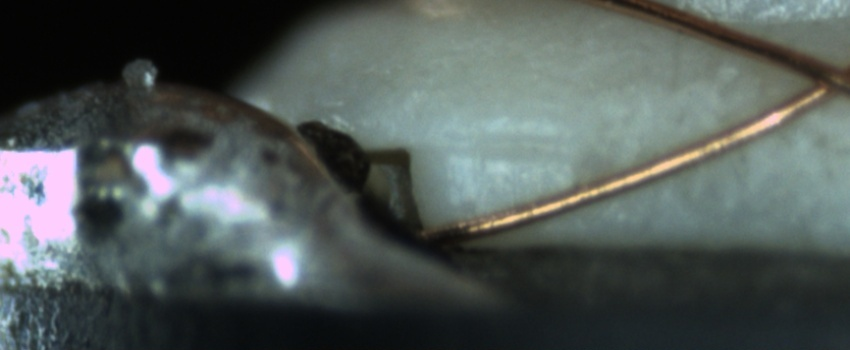CL: (779, 44, 848, 111)
DL: (440, 118, 573, 178)
